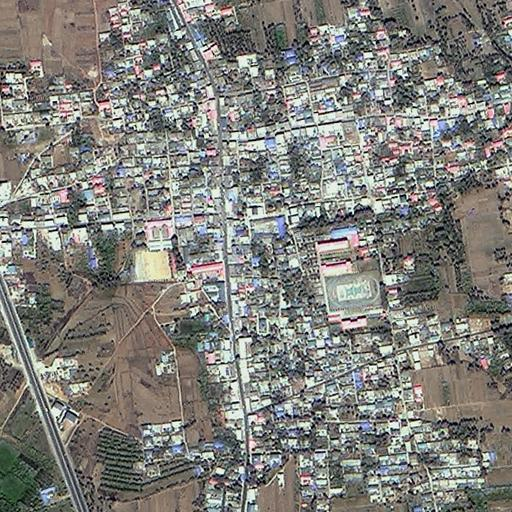school: (317, 224, 382, 314), (127, 216, 176, 285)
